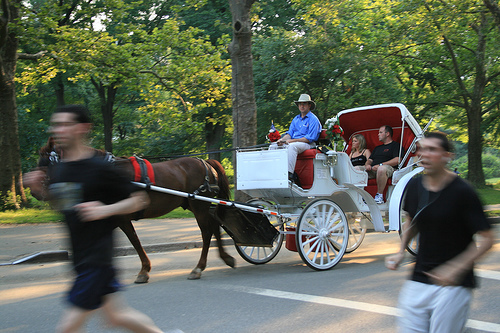horse: (26, 133, 238, 286)
